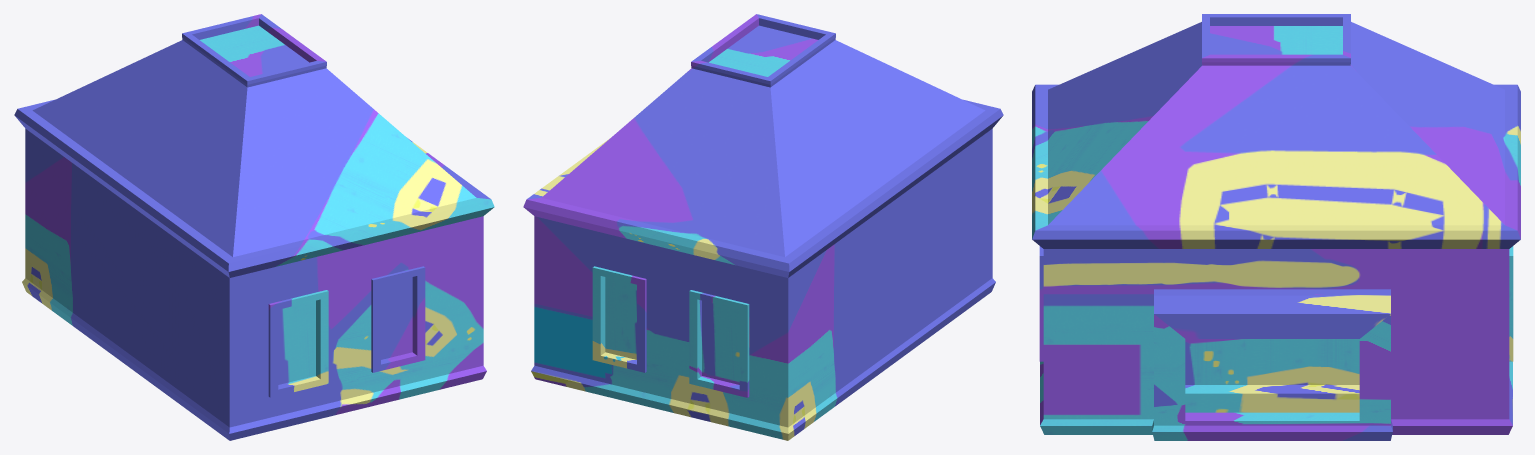
The picture shows the model from 3 angles, left to right: view 1: azimuth 30°, elevation 25°; view 2: azimuth 150°, elevation 25°; view 3: azimuth 270°, elevation 25°; orthographic projection. The views are drawn at different scales.
Parts seen in each view (by area): view 1: Cube; view 2: Cube; view 3: Cube.
Boxes of the visible parts, <box> form: Cube: <box>14,14,494,440</box>; Cube: <box>523,14,1003,440</box>; Cube: <box>1032,14,1520,440</box>.
Bounding box in the file's own units: 173 × 156 × 210.
